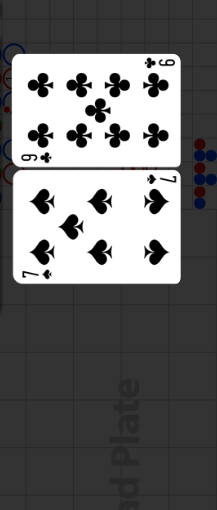7S: (145, 173, 178, 186)
9C: (142, 57, 176, 71)
